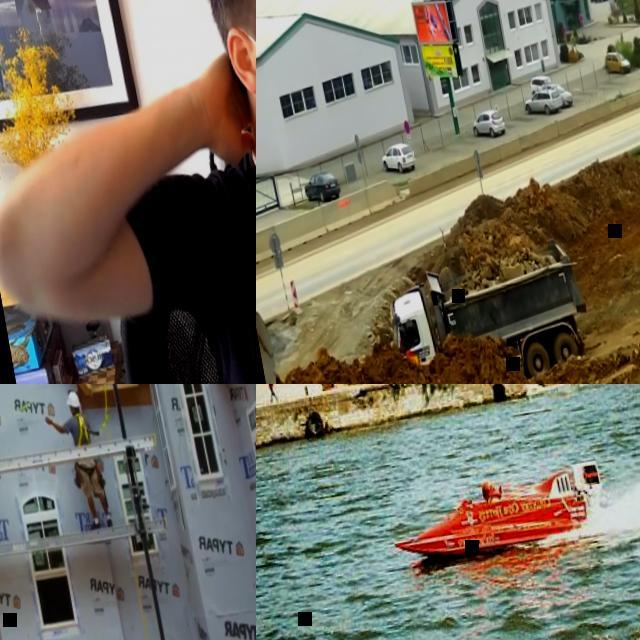helmet: (478, 478, 496, 496), (64, 388, 80, 408)
